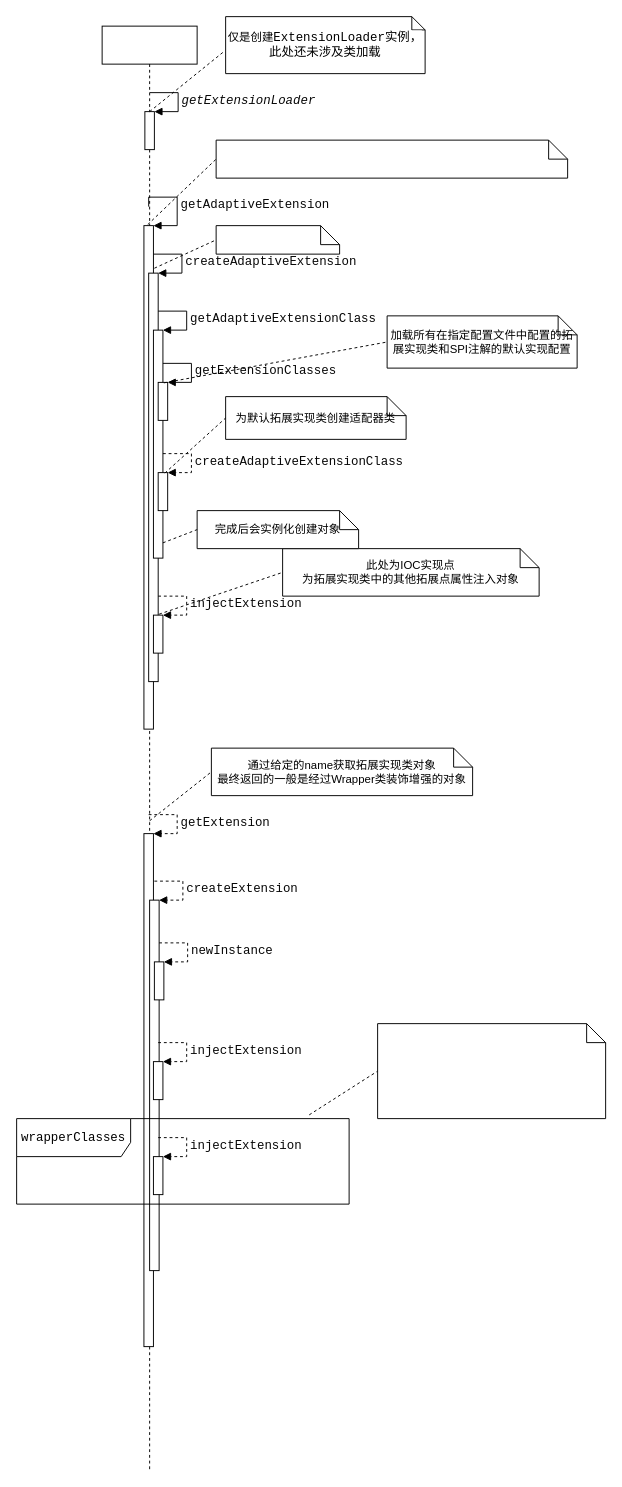
This 622x1487 diagram has some shape labels left out. Each missing label, with the box of its shape:
ExtensionLoader: (101, 25, 197, 1470)
使用装饰模式将之前拓展实现类加载时识别的Wrapper类进行封装增强 同时也会IOC注入Wrapper内部的属性对象: (377, 1023, 606, 1119)
创建适配器类: (215, 225, 340, 254)
此处会加载所有拓展实现类和SPI的默认实现配置 并为默认拓展实现类创建适配器类(模板代码默认通过 javassist ): (215, 139, 568, 178)
